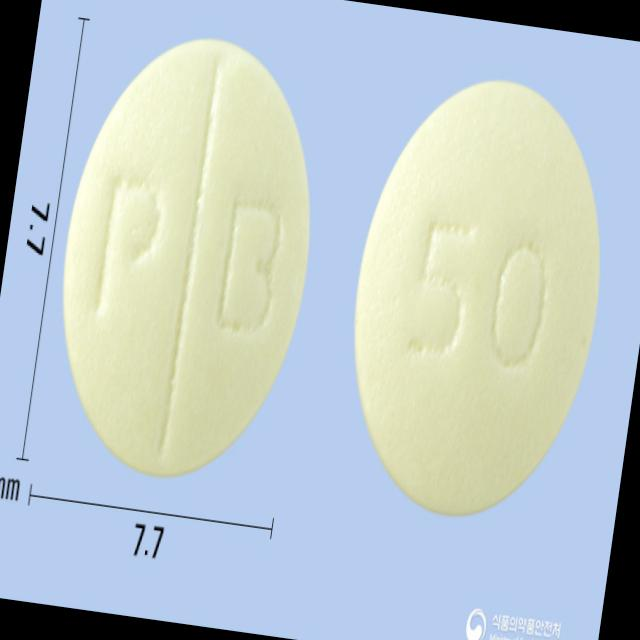Azabio: (33, 14, 340, 497)
